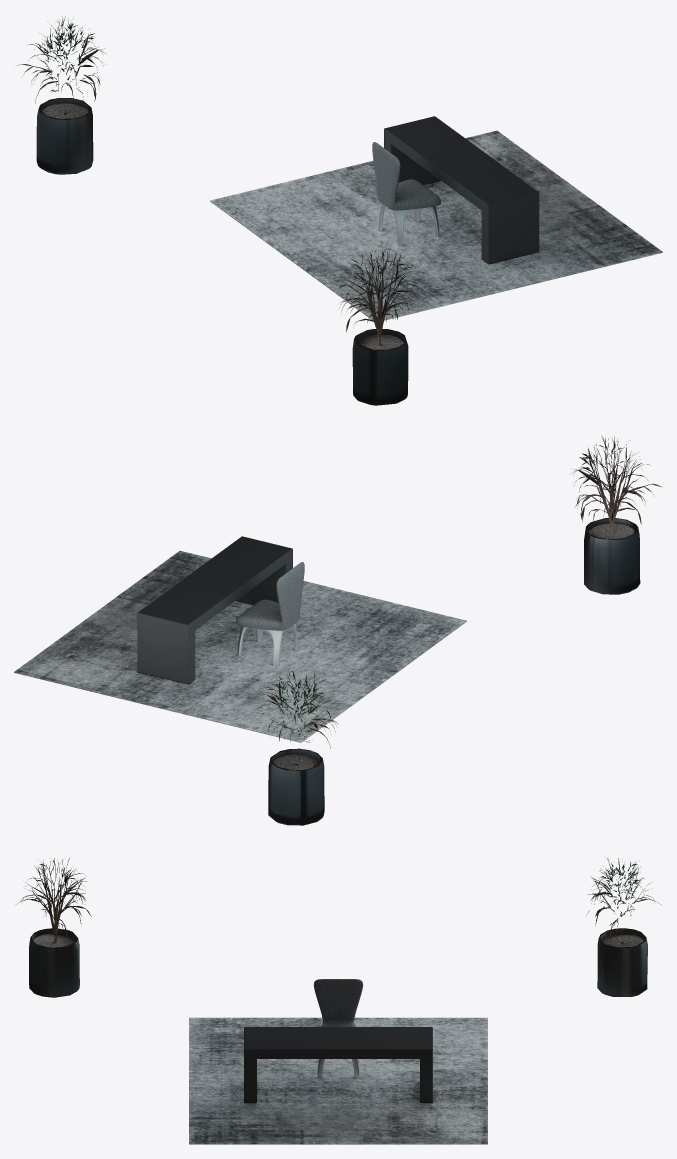
Rendered from office-exec.glb.
The picture shows the model from 3 angles, top to bottom: view 1: azimuth 30°, elevation 25°; view 2: azimuth 150°, elevation 25°; view 3: azimuth 270°, elevation 25°; orthographic projection. The views are drawn at different scales.
Visible parts, largest first — view 1: ExecSet_0 (×3), ExecPlant_0; view 2: ExecSet_0 (×3), ExecPlant_0; view 3: ExecSet_0 (×3), ExecPlant_0.
Boxes of the visible parts, x1,y1,x2,y2 form: ExecSet_0 (×3): [210, 116, 662, 320]; ExecPlant_0: [17, 16, 421, 405]; ExecSet_0 (×3): [14, 536, 466, 742]; ExecPlant_0: [256, 435, 662, 825]; ExecSet_0 (×3): [189, 979, 487, 1144]; ExecPlant_0: [16, 858, 660, 997].
Size of the model in its own units: 5.58 by 1.92 by 8.75.
Materials: 4 (4 with a texture image).
